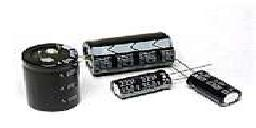Electrolytic-Capacitor: (23, 40, 83, 111), (81, 33, 194, 69), (172, 57, 246, 109), (110, 69, 183, 101)
